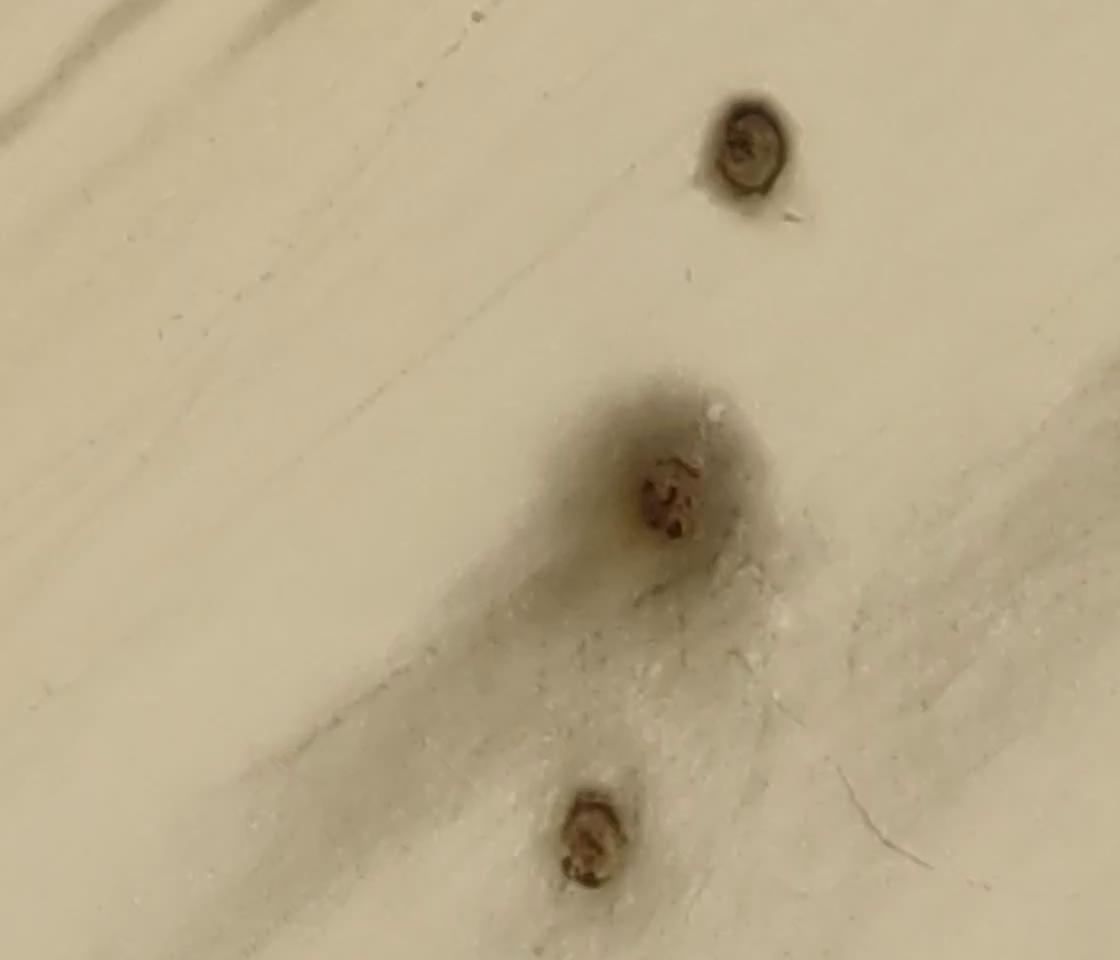rust: (631, 456, 710, 547), (560, 793, 629, 889)
